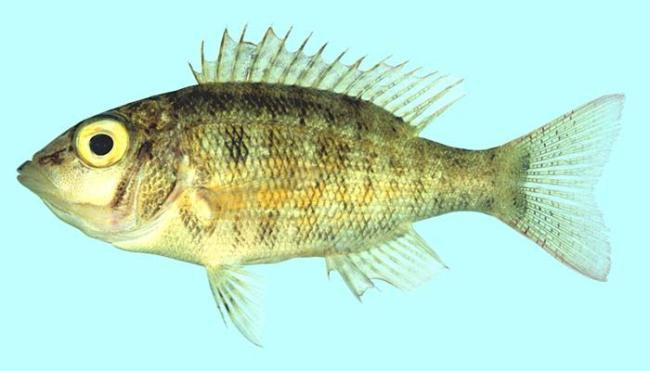fish: (16, 19, 626, 348)
